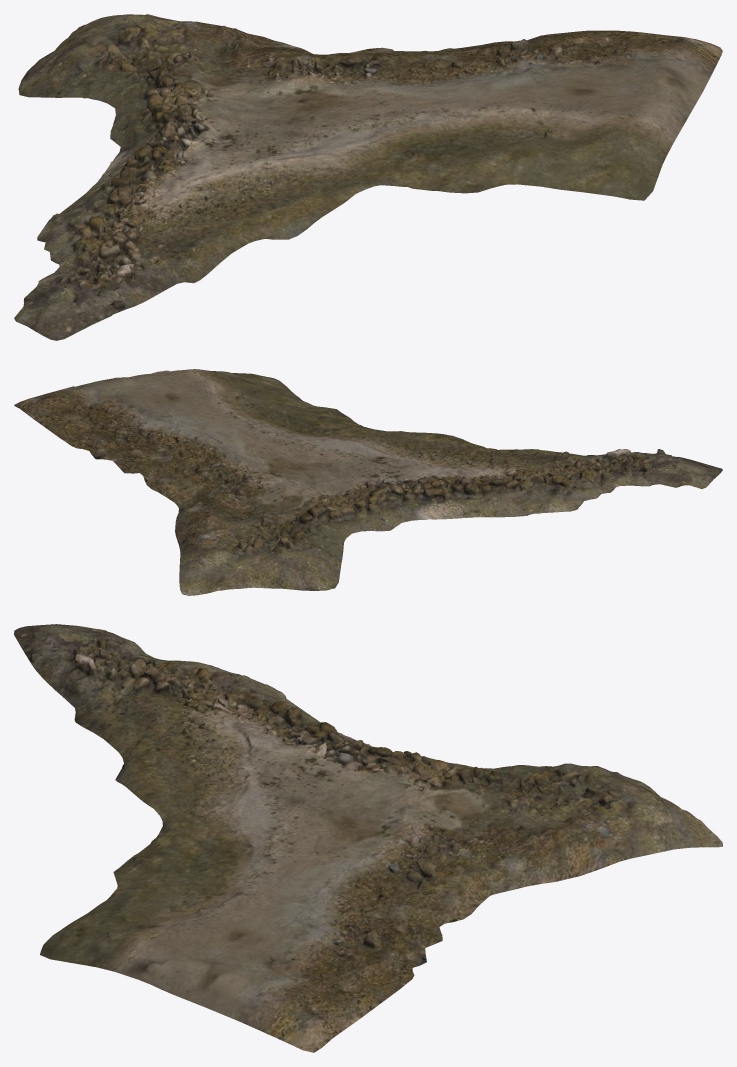
The model's file is coast_rocks_01.glb.
3 views of the same model, one above another, from view 1: azimuth 30°, elevation 25°; view 2: azimuth 150°, elevation 25°; view 3: azimuth 270°, elevation 25° (orthographic). The views are drawn at different scales.
Parts seen in each view (by area): view 1: coast_rocks_01; view 2: coast_rocks_01; view 3: coast_rocks_01.
Boxes of the visible parts, x1,y1,x2,y2 form: coast_rocks_01: (14, 14, 722, 340); coast_rocks_01: (14, 369, 722, 595); coast_rocks_01: (14, 624, 722, 1052).
Size of the model in its own units: 59.51 by 3.29 by 42.51.
Materials: 1 (1 with a texture image).
